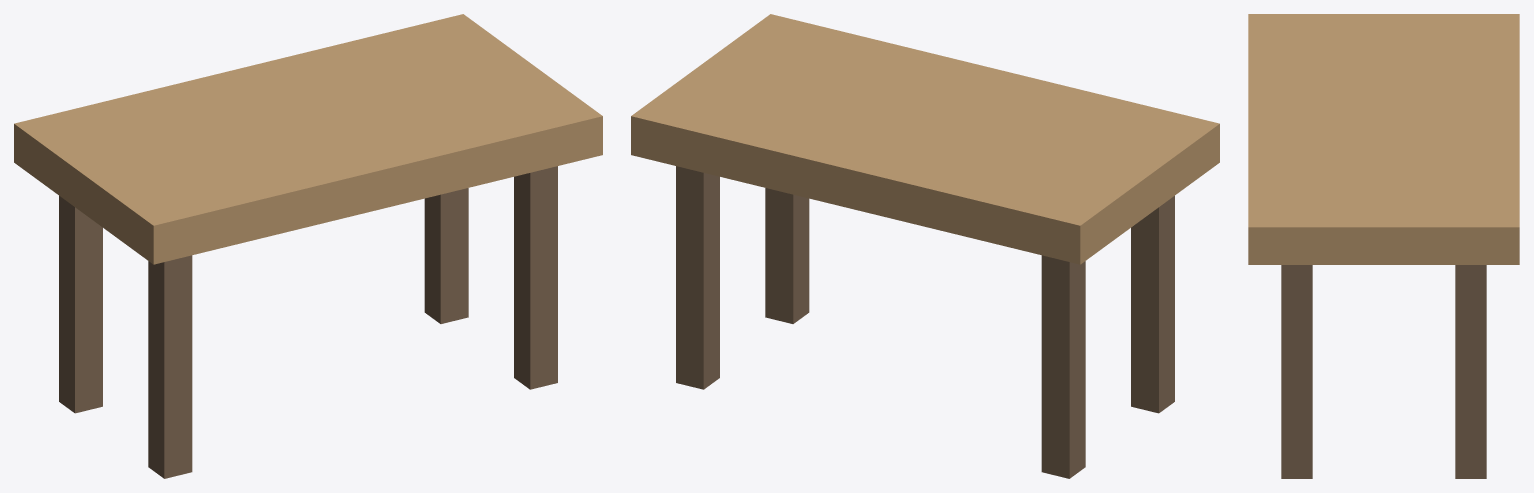
Rendered from plane-table.glb.
The picture shows the model from 3 angles, left to right: view 1: azimuth 30°, elevation 25°; view 2: azimuth 150°, elevation 25°; view 3: azimuth 270°, elevation 25°; orthographic projection. The views are drawn at different scales.
Bounding box in the file's own units: 1.45 × 0.84 × 0.78.
